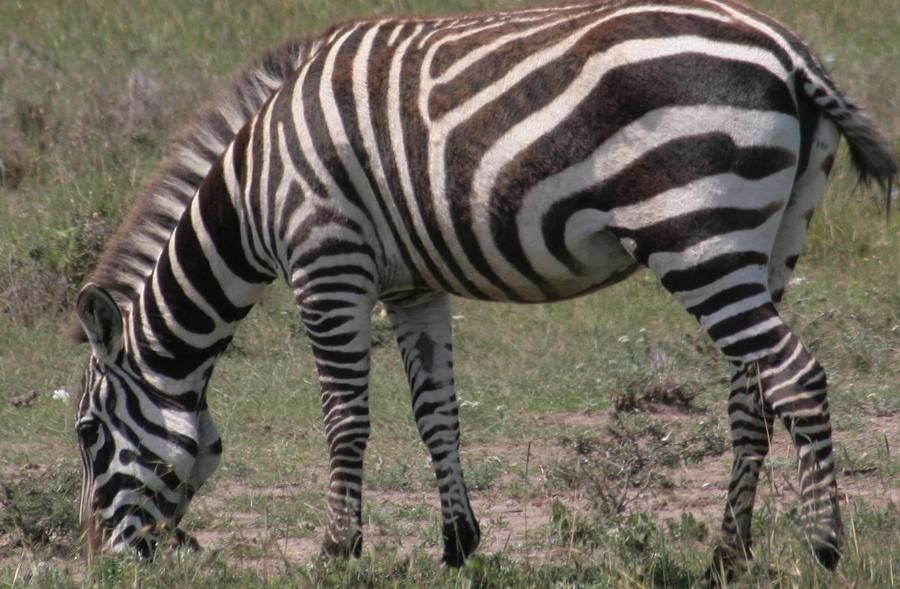zebra_plains: (242, 18, 780, 327)
